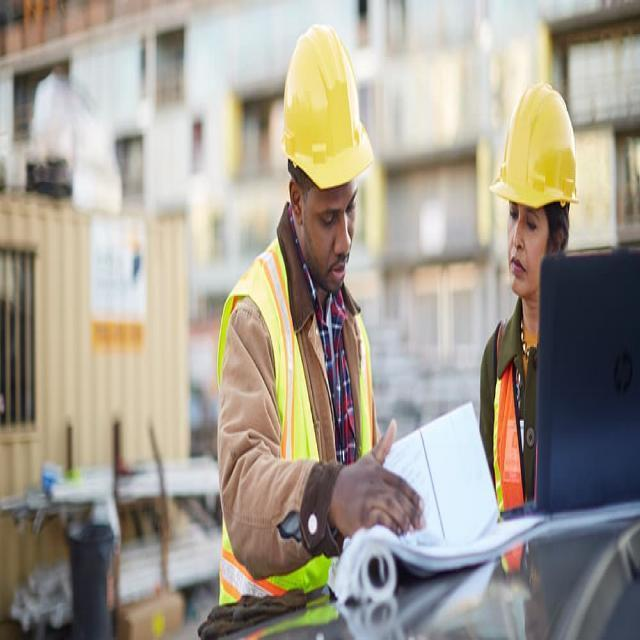No_Goggles: (308, 189, 357, 242), (508, 203, 542, 242)
